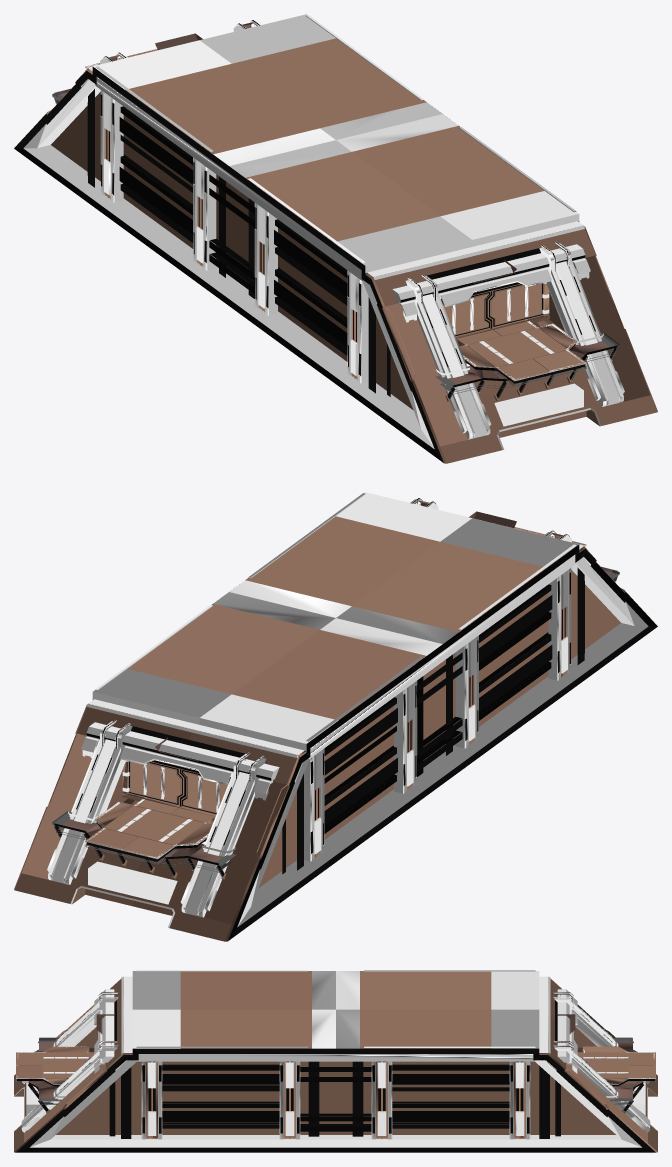
Rendered from spaceport_building_b_straight_128m_a.glb.
3 views of the same model, one above another, from view 1: azimuth 30°, elevation 25°; view 2: azimuth 150°, elevation 25°; view 3: azimuth 270°, elevation 25° (orthographic). The views are drawn at different scales.
Size of the model in its own units: 128 by 80.67 by 448.
